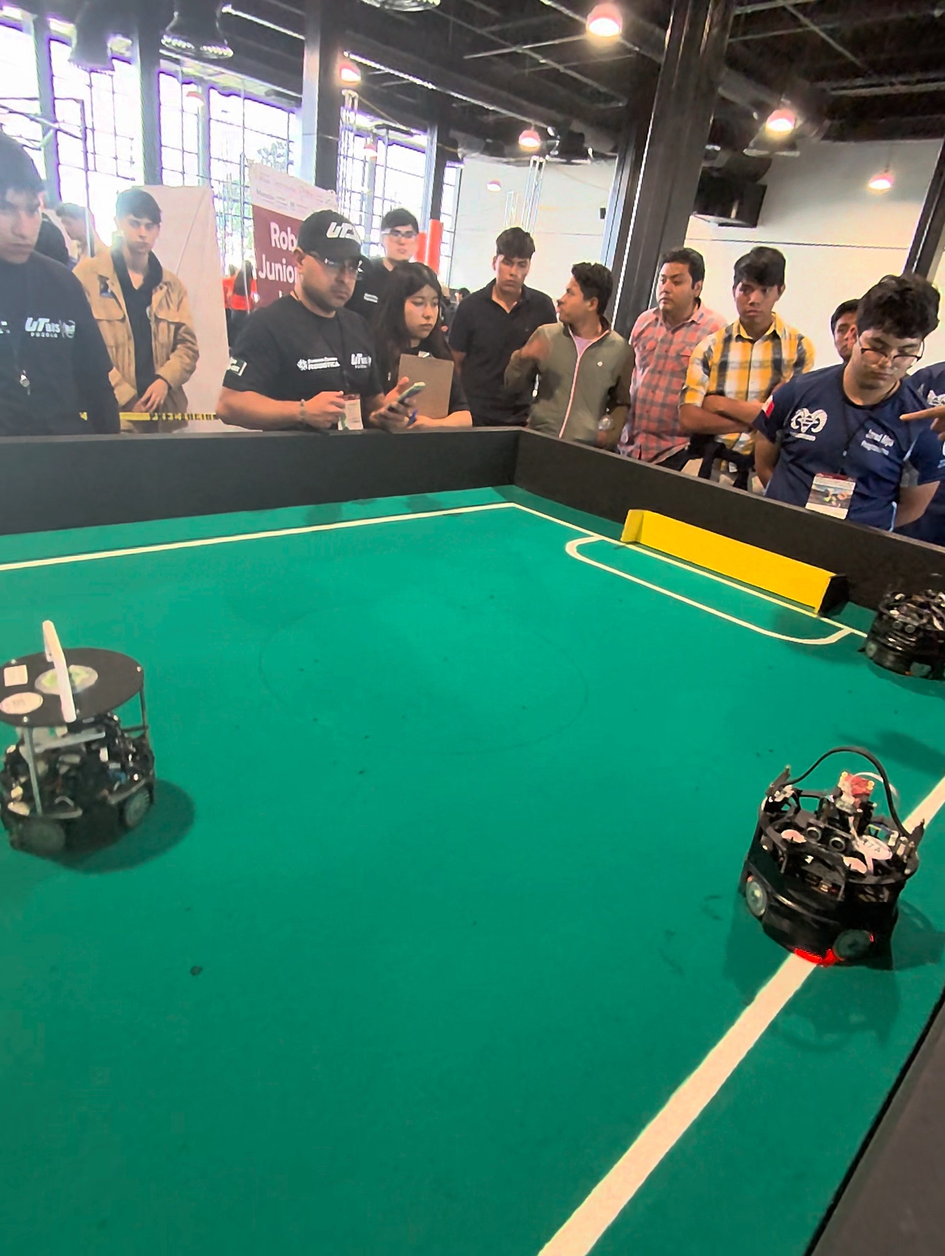Robot: (2, 609, 182, 879), (742, 733, 926, 980), (865, 566, 945, 686)
